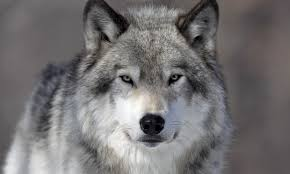Lobo: (30, 4, 243, 171)
